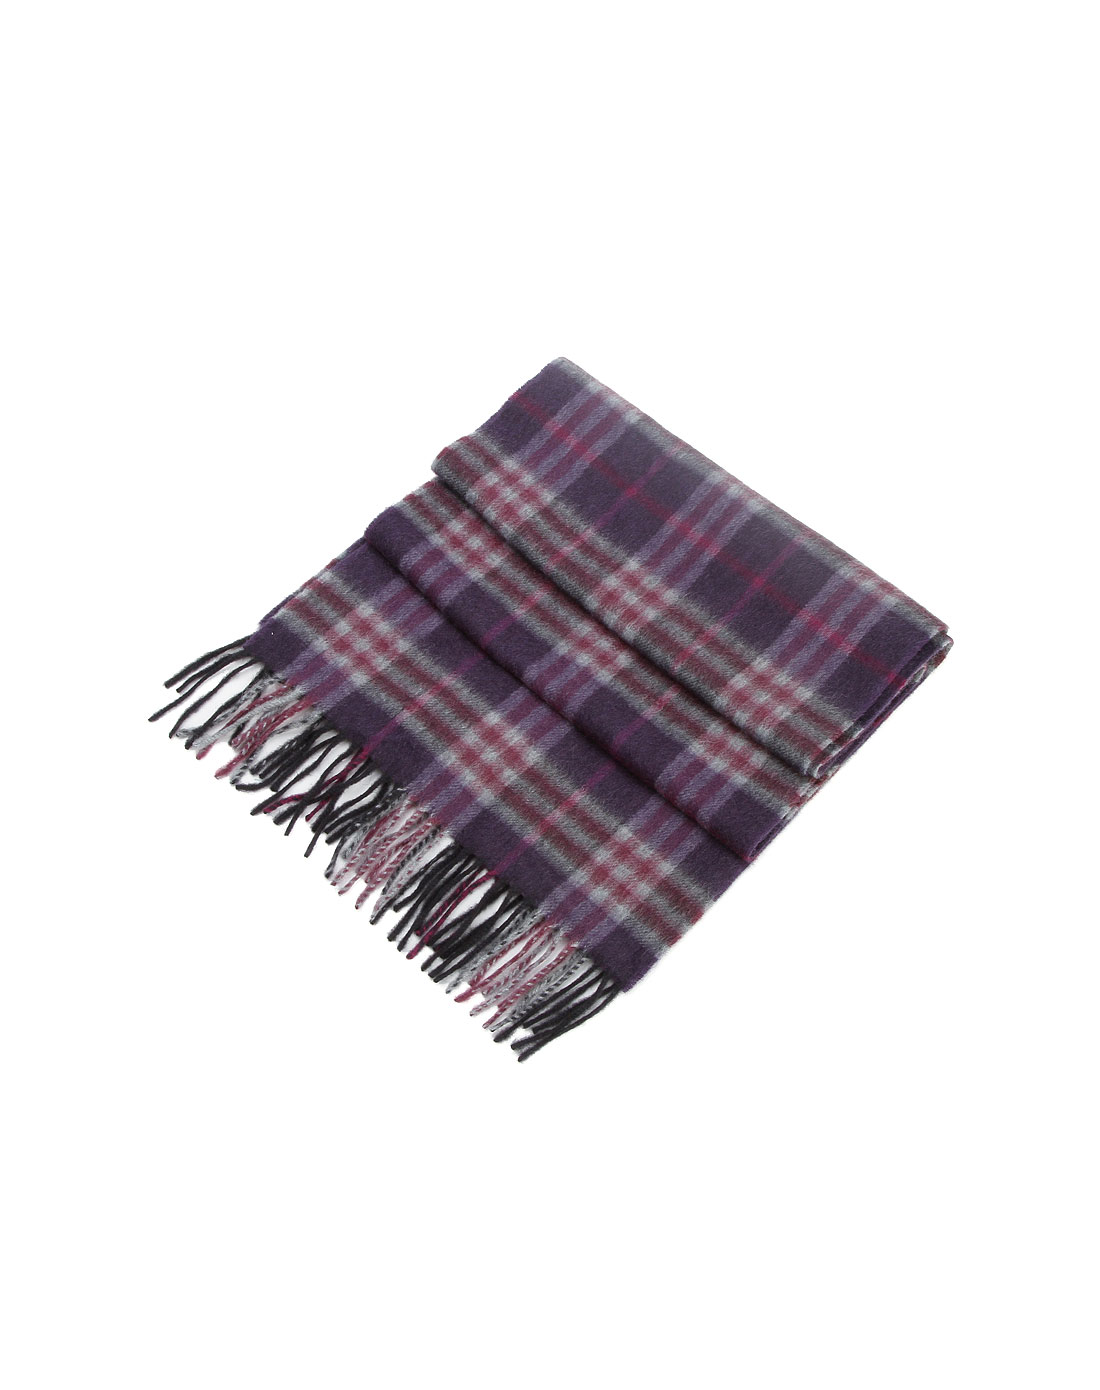flexible: (164, 357, 954, 1056)
